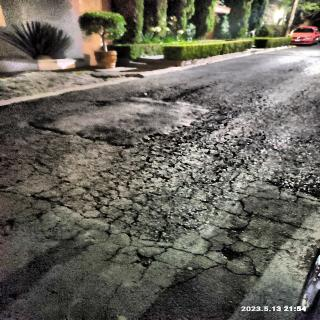alligator-crack: (36, 115, 282, 287)
